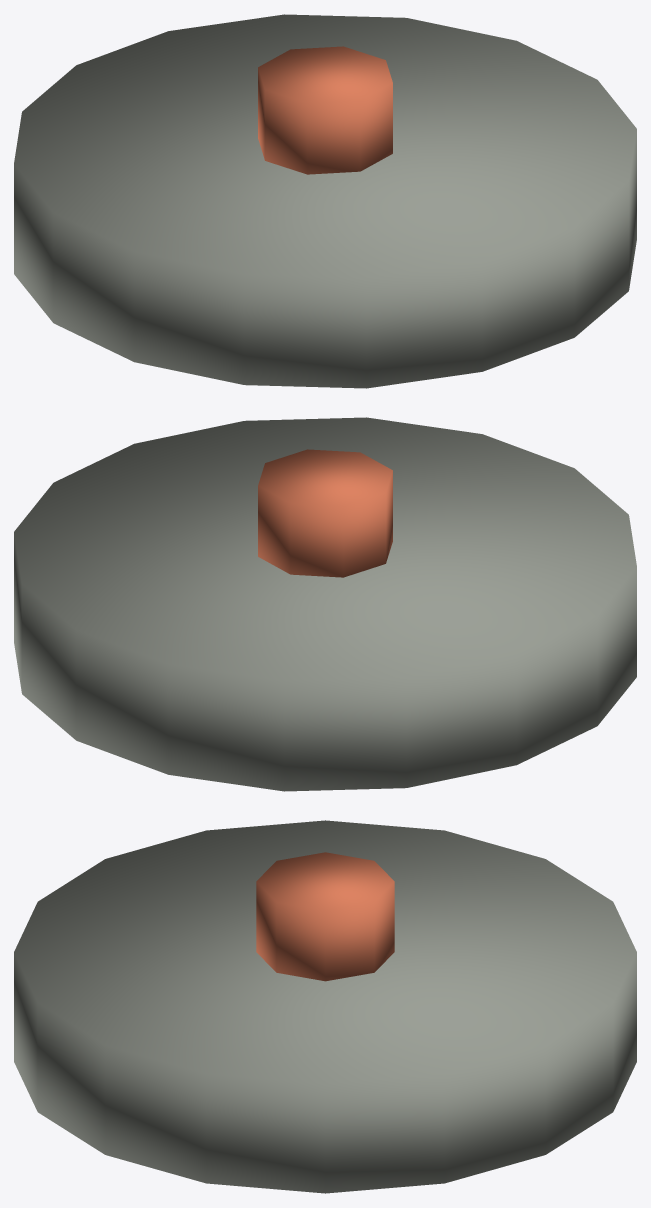
File: mine.glb
3 renders of one model, top to bottom at view 1: azimuth 30°, elevation 25°; view 2: azimuth 150°, elevation 25°; view 3: azimuth 270°, elevation 25°, orthographic.
Parts seen in each view (by area): view 1: mine; view 2: mine; view 3: mine.
Boxes of the visible parts, bbox=[...] form: mine: bbox=[14, 14, 636, 388]; mine: bbox=[14, 417, 636, 791]; mine: bbox=[14, 820, 636, 1193].
Bounding box in the file's own units: 0.36 × 0.115 × 0.36.
